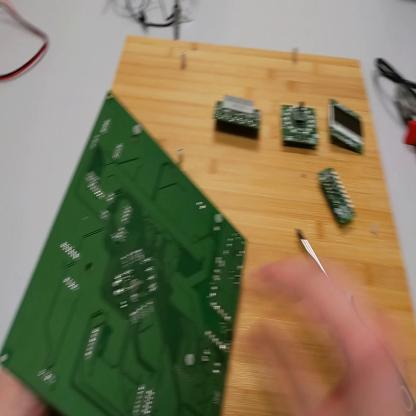hand: (245, 255, 401, 415), (4, 369, 57, 412)
low voltage board: (3, 88, 255, 416)
oscilloscope probe tip: (174, 3, 183, 38)
pliers: (396, 86, 416, 146)
screwdriver-: (297, 230, 415, 415)
working area: (113, 34, 416, 416)
